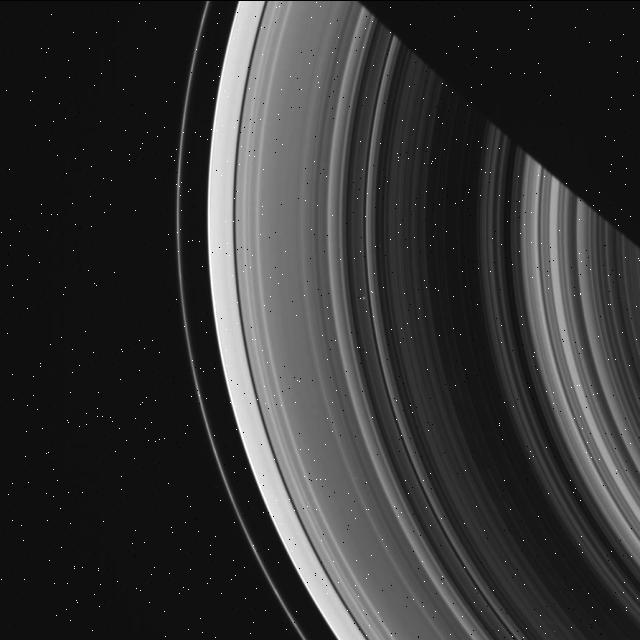Saturn: (172, 0, 640, 640)
